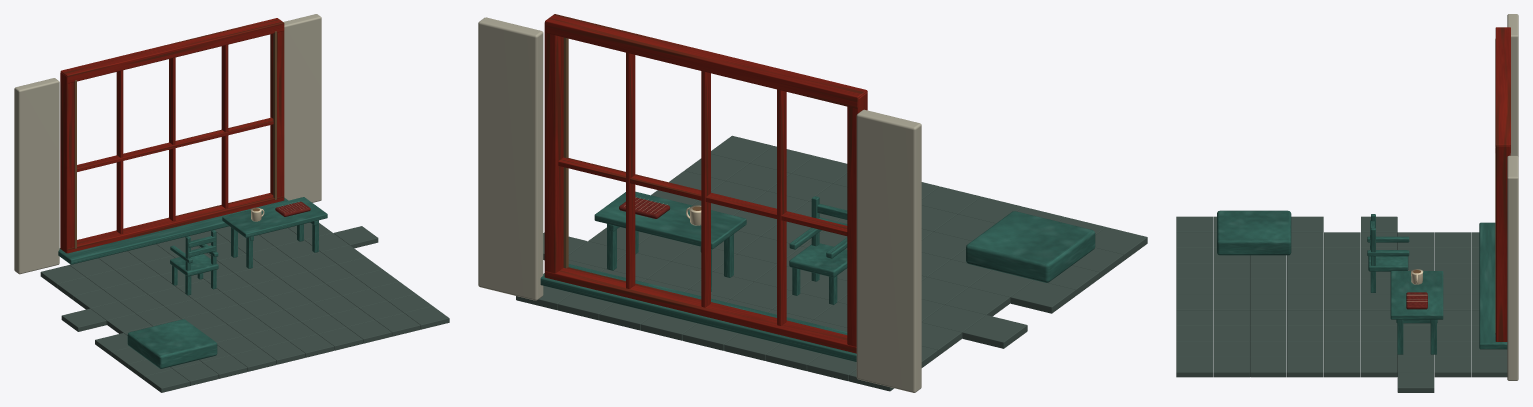
The model's file is room.glb.
3 views of the same model, side by side, from view 1: azimuth 30°, elevation 25°; view 2: azimuth 150°, elevation 25°; view 3: azimuth 270°, elevation 25° (orthographic). The views are drawn at different scales.
Parts seen in each view (by area): view 1: PlasterWing, PlasterWing.001, WindowOuterCross.001, Pedestal, WindowOuter, WindowOuterCross, DeepSlateSill, HeavySlab, WindowOuter.001, WindowCross, WindowMullion.002, WindowMullion (+73 smaller); view 2: PlasterWing, PlasterWing.001, WindowOuterCross.001, Pedestal, WindowOuterCross, WindowOuter.001, DeepSlateSill, HeavySlab, WindowCross, WindowOuter, WindowMullion.001, WindowMullion (+49 smaller); view 3: Pedestal, PlasterWing.001, WindowOuter.001, DeepSlateSill, HeavySlab, WindowOuterCross.001, PlasterWing, SlateTile.084, SlateTile.086, SlateTile.077, SlateTile.078, SlateTile.079 (+67 smaller).
Part boxes in pixels (bbox=[...]): PlasterWing: bbox=[14, 78, 59, 274]; PlasterWing.001: bbox=[283, 14, 321, 202]; WindowOuterCross.001: bbox=[60, 18, 284, 83]; Pedestal: bbox=[127, 319, 217, 368]; WindowOuter: bbox=[60, 72, 74, 253]; WindowOuterCross: bbox=[67, 193, 284, 253]; DeepSlateSill: bbox=[58, 197, 288, 264]; HeavySlab: bbox=[222, 197, 327, 237]; WindowOuter.001: bbox=[270, 31, 284, 197]; WindowCross: bbox=[77, 117, 273, 171]; WindowMullion.002: bbox=[221, 45, 228, 208]; WindowMullion: bbox=[116, 70, 123, 233]; PlasterWing: bbox=[856, 109, 921, 392]; PlasterWing.001: bbox=[478, 17, 543, 300]; WindowOuterCross.001: bbox=[545, 14, 867, 108]; Pedestal: bbox=[966, 211, 1095, 282]; WindowOuterCross: bbox=[545, 267, 856, 353]; WindowOuter.001: bbox=[544, 22, 563, 276]; DeepSlateSill: bbox=[540, 264, 856, 361]; HeavySlab: bbox=[594, 191, 746, 249]; WindowCross: bbox=[558, 157, 847, 235]; WindowOuter: bbox=[847, 92, 867, 346]; WindowMullion.001: bbox=[701, 71, 710, 307]; WindowMullion: bbox=[777, 89, 786, 325]; Pedestal: bbox=[1217, 210, 1291, 255]; PlasterWing.001: bbox=[1507, 155, 1518, 380]; WindowOuter.001: bbox=[1496, 145, 1510, 341]; DeepSlateSill: bbox=[1479, 222, 1507, 349]; HeavySlab: bbox=[1390, 271, 1443, 319]; WindowOuterCross.001: bbox=[1495, 27, 1510, 152]; PlasterWing: bbox=[1507, 14, 1518, 156]; SlateTile.084: bbox=[1434, 357, 1471, 377]; SlateTile.086: bbox=[1397, 372, 1434, 392]; SlateTile.077: bbox=[1176, 357, 1212, 377]; SlateTile.078: bbox=[1213, 357, 1249, 377]; SlateTile.079: bbox=[1250, 357, 1286, 377].
Bounding box in the file's own units: 8.46 × 5.1 × 7.14.
8 materials, 3 textured.
